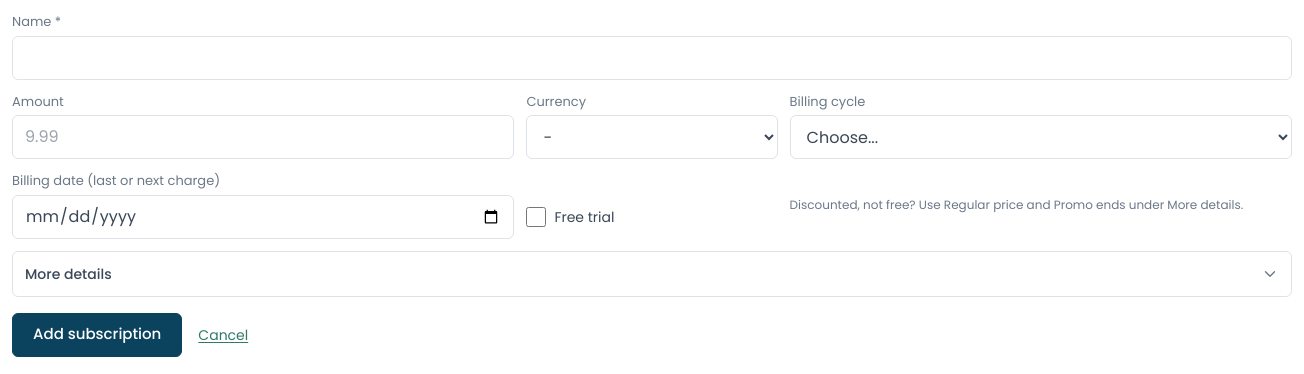
SubscriptionForm › shows Trial ends only after ticking the trial box, and unticking clears it
Expected: the field labelled "Trial ends" is not shown
Click the checkbox labelled "Free trial" at (536,216), box [526,206,546,226]
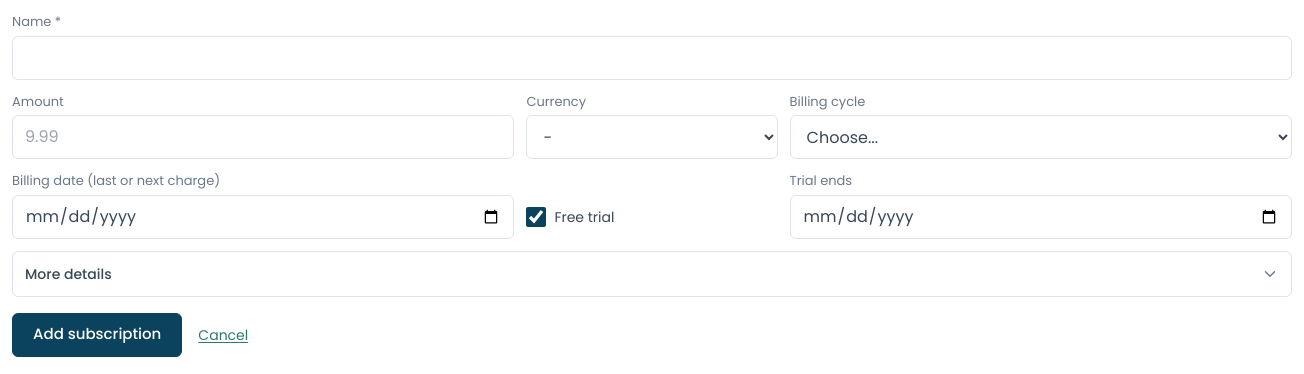
Type "2026-11-01" into the date field labelled "Trial ends" at (1041,216), box [790,194,1292,238]
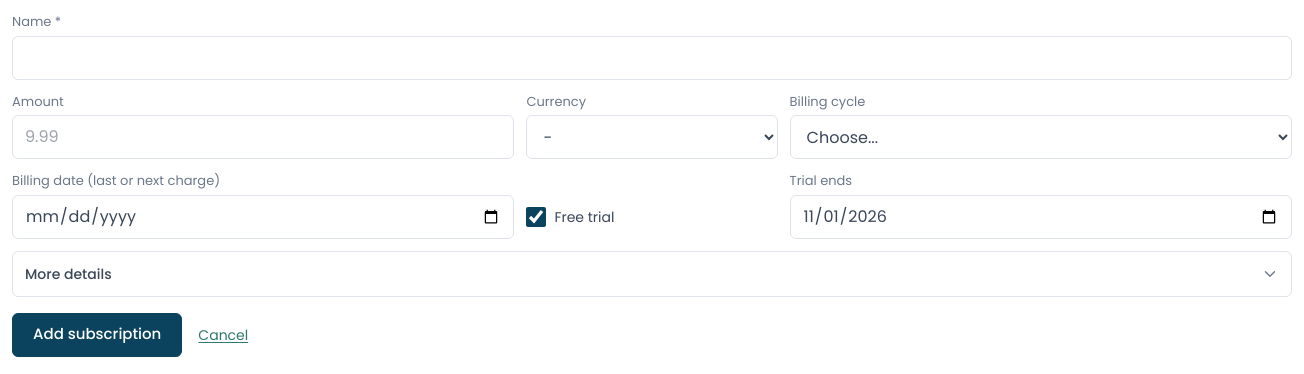
Click the checkbox labelled "Free trial" at (536,216), box [526,206,546,226]
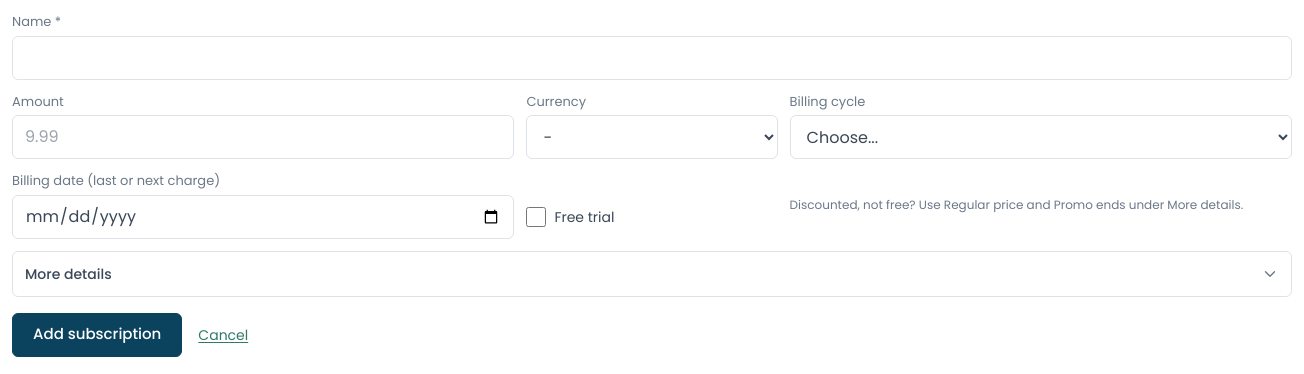
Now the label labelled "Trial ends" is gone
